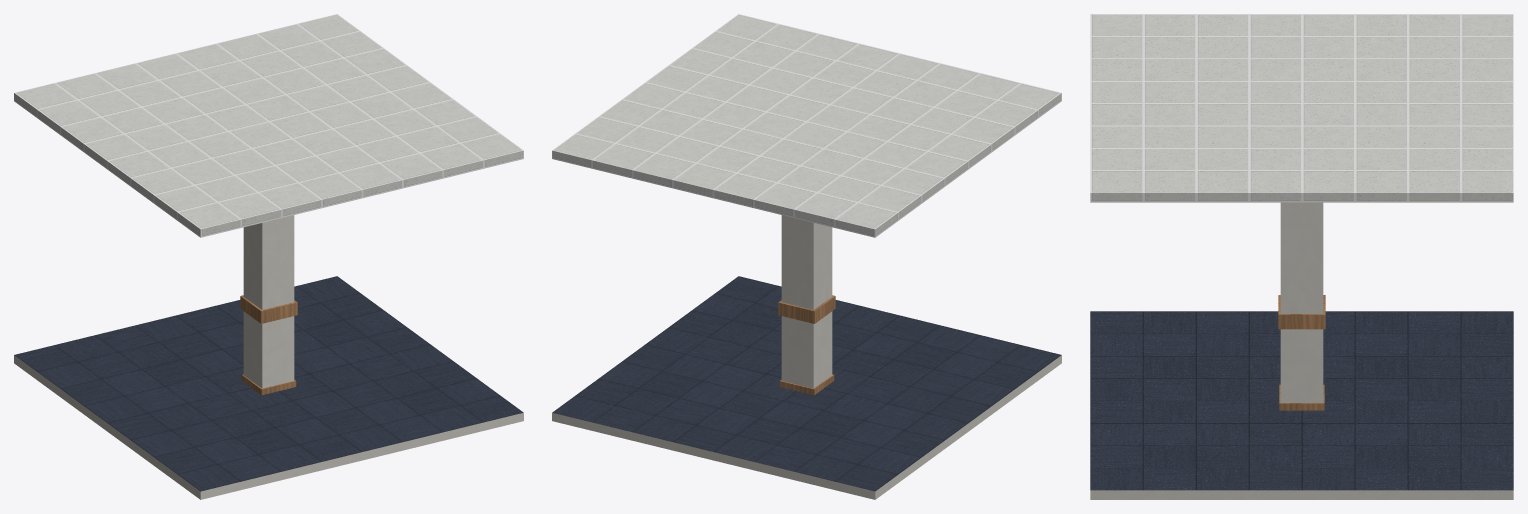
Rendered from Room_Office_Column_NoLight.glb.
3 views of the same model, side by side, from view 1: azimuth 30°, elevation 25°; view 2: azimuth 150°, elevation 25°; view 3: azimuth 270°, elevation 25° (orthographic). The views are drawn at different scales.
Visible parts, largest first — view 1: Room_Office_Column_NoLight, Room_Office_Column_NoLight_Ceiling; view 2: Room_Office_Column_NoLight, Room_Office_Column_NoLight_Ceiling; view 3: Room_Office_Column_NoLight, Room_Office_Column_NoLight_Ceiling.
Boxes of the visible parts, x1,y1,x2,y2 form: Room_Office_Column_NoLight: (14, 215, 523, 499); Room_Office_Column_NoLight_Ceiling: (14, 14, 523, 237); Room_Office_Column_NoLight: (552, 215, 1061, 499); Room_Office_Column_NoLight_Ceiling: (552, 14, 1061, 237); Room_Office_Column_NoLight: (1090, 202, 1513, 499); Room_Office_Column_NoLight_Ceiling: (1090, 14, 1513, 202).
Bounding box in the file's own units: 4 × 3.2 × 4.
Materials: 4 (4 with a texture image).
